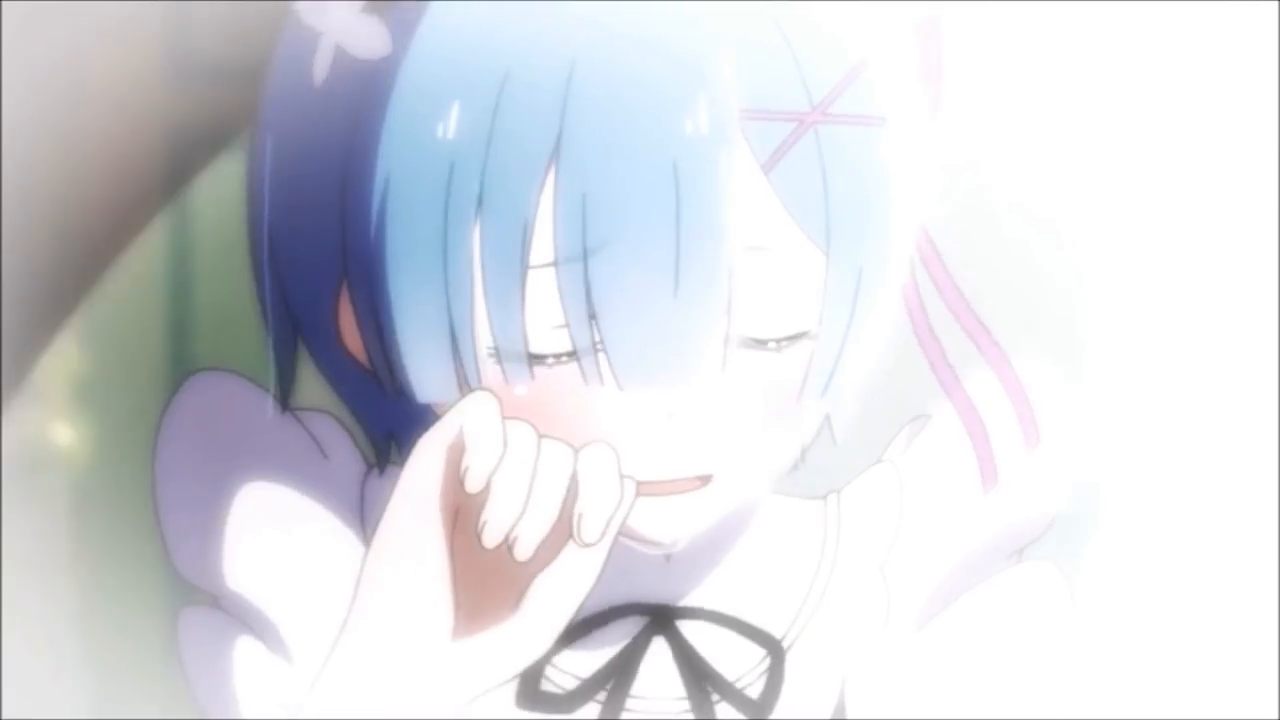REM: (232, 1, 890, 569)
